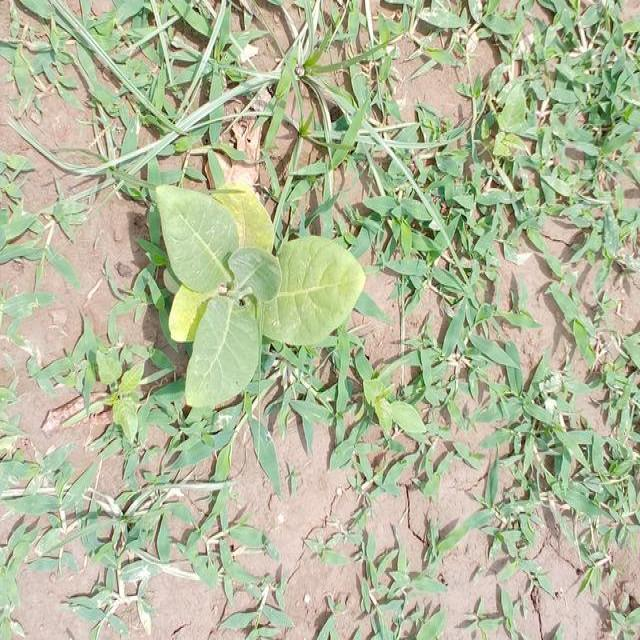crop: (158, 187, 356, 386)
